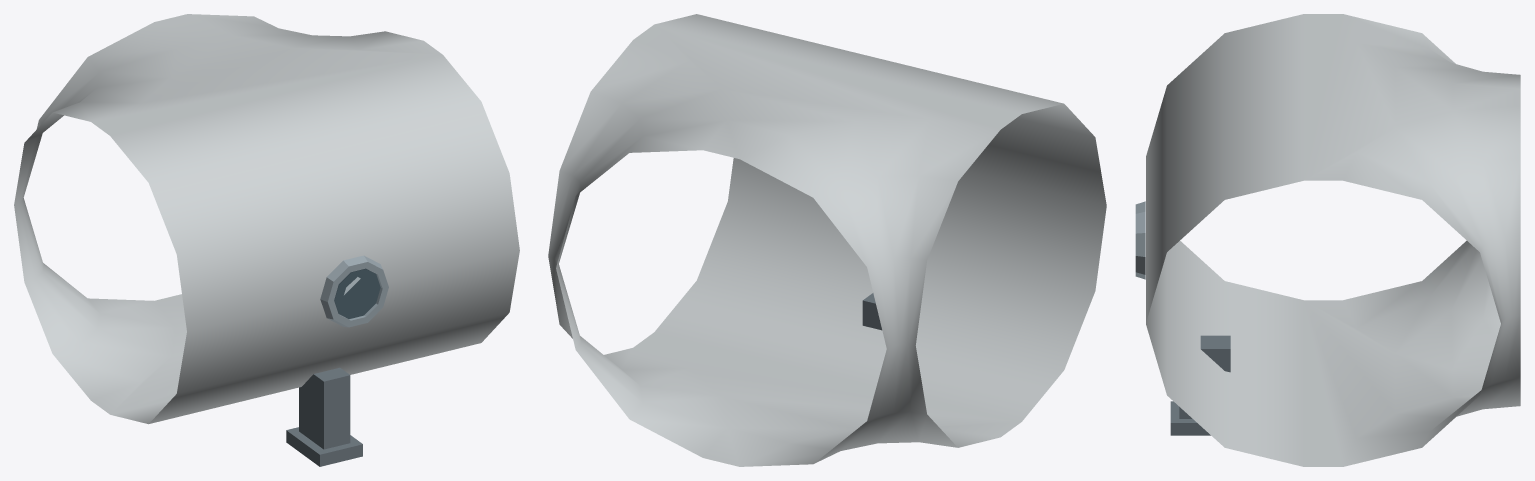
The model's file is pressure_013.glb.
3 renders of one model, left to right at view 1: azimuth 30°, elevation 25°; view 2: azimuth 150°, elevation 25°; view 3: azimuth 270°, elevation 25°, orthographic. The views are drawn at different scales.
Parts seen in each view (by area): view 1: Pressure_Shell.049, Support.137, Porthole_Rim.074, Gas_Window.074, Window_Glass.074, Footplate.137; view 2: Pressure_Shell.049; view 3: Pressure_Shell.049, Support.137, Porthole_Rim.074, Footplate.137.
Boxes of the visible parts, x1,y1,x2,y2 form: Pressure_Shell.049: (14, 14, 519, 424); Support.137: (299, 367, 350, 449); Porthole_Rim.074: (320, 255, 388, 327); Gas_Window.074: (334, 268, 380, 318); Window_Glass.074: (335, 270, 381, 319); Footplate.137: (286, 427, 362, 466); Pressure_Shell.049: (548, 14, 1106, 466); Pressure_Shell.049: (1146, 14, 1520, 466); Support.137: (1179, 335, 1230, 418); Porthole_Rim.074: (1135, 201, 1145, 279); Footplate.137: (1170, 401, 1210, 435).
Size of the model in its own units: 2 by 1.83 by 1.95.
